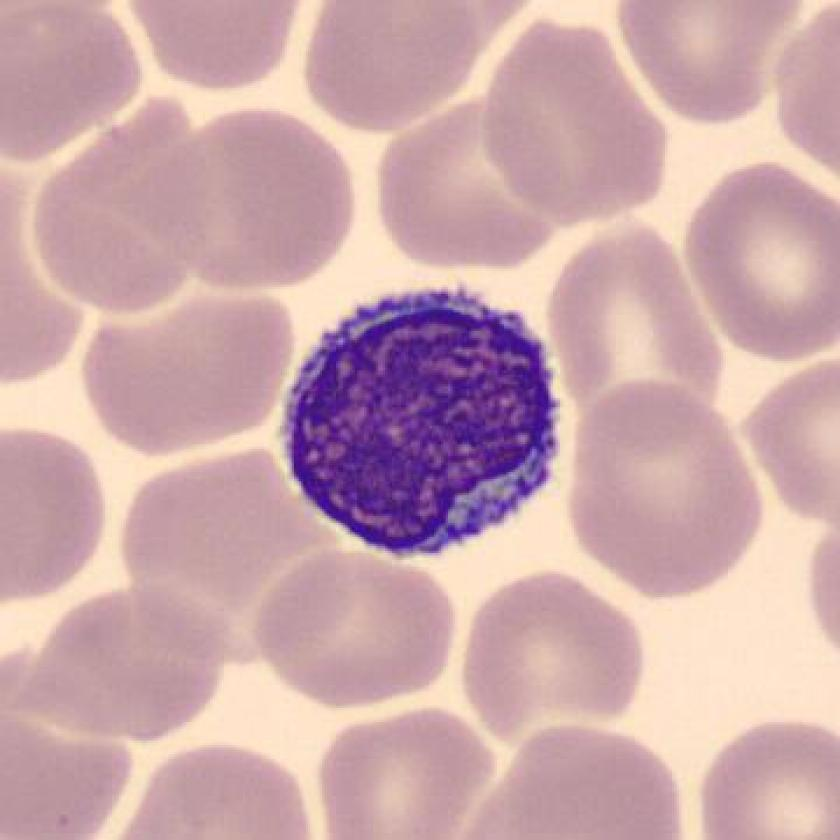lymphocyte: (262, 267, 582, 573)
